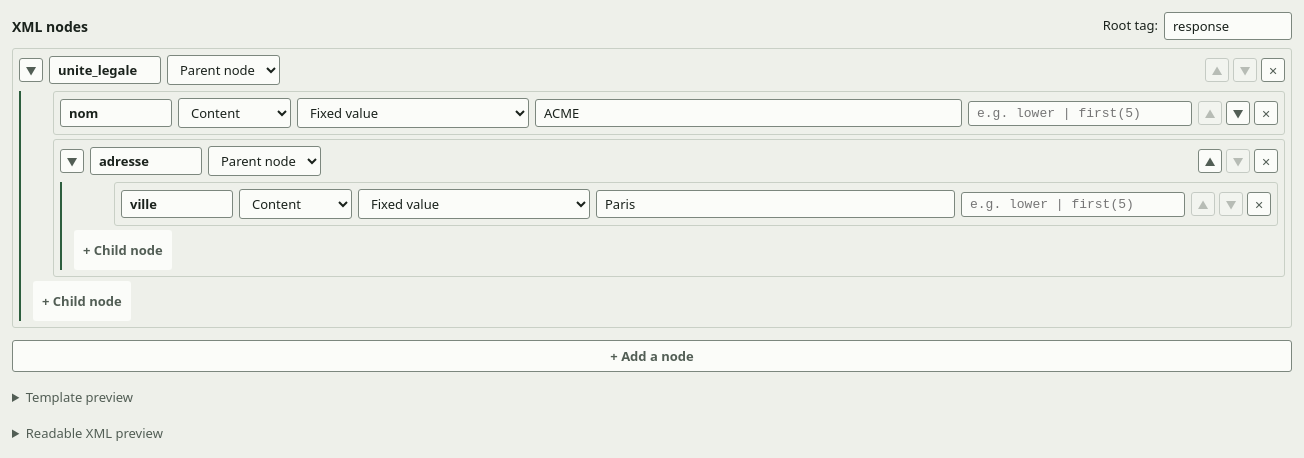
Test case: XmlResponseBuilder — folding of parent nodes › unfolding shows the hidden content again
This screenshot has width=1304, height=458.
Click the button named "Collapse unite_legale": point(31, 70) 19,58 -> 43,82
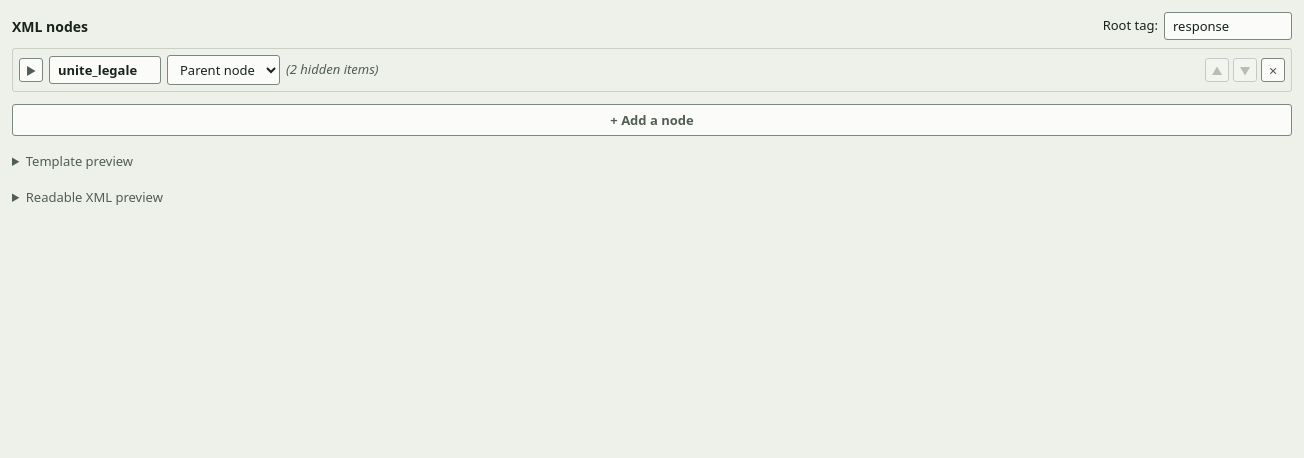
Click the button named "Expand unite_legale": point(31, 70) 19,58 -> 43,82
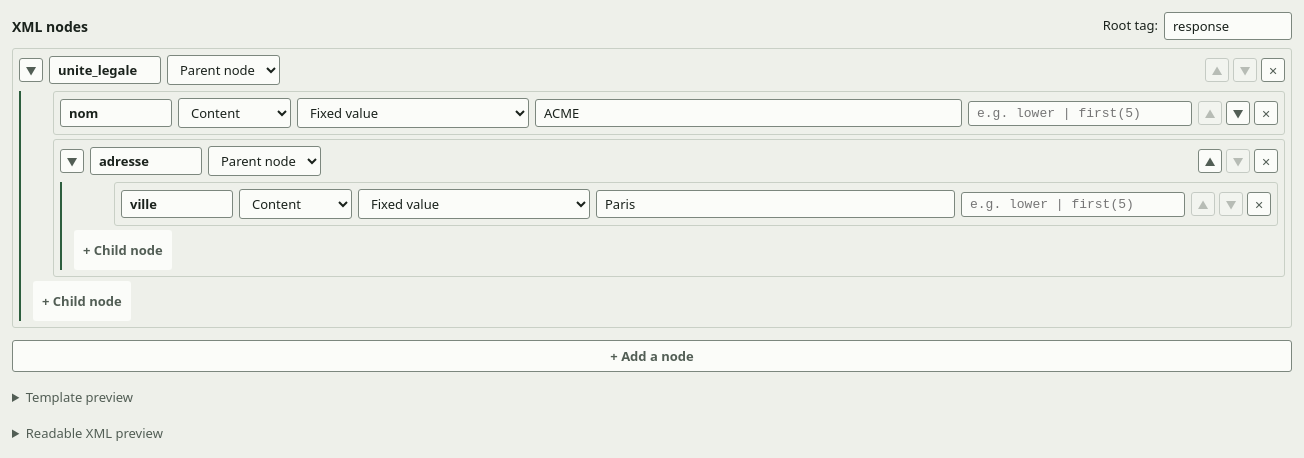
Check: the button named "Collapse unite_legale" is expanded, box 19,58 -> 43,82
Check: the 2nd field showing "nom" is shown, box 60,99 -> 172,127
Check: the 4th field showing "ville" is shown, box 121,190 -> 233,218
